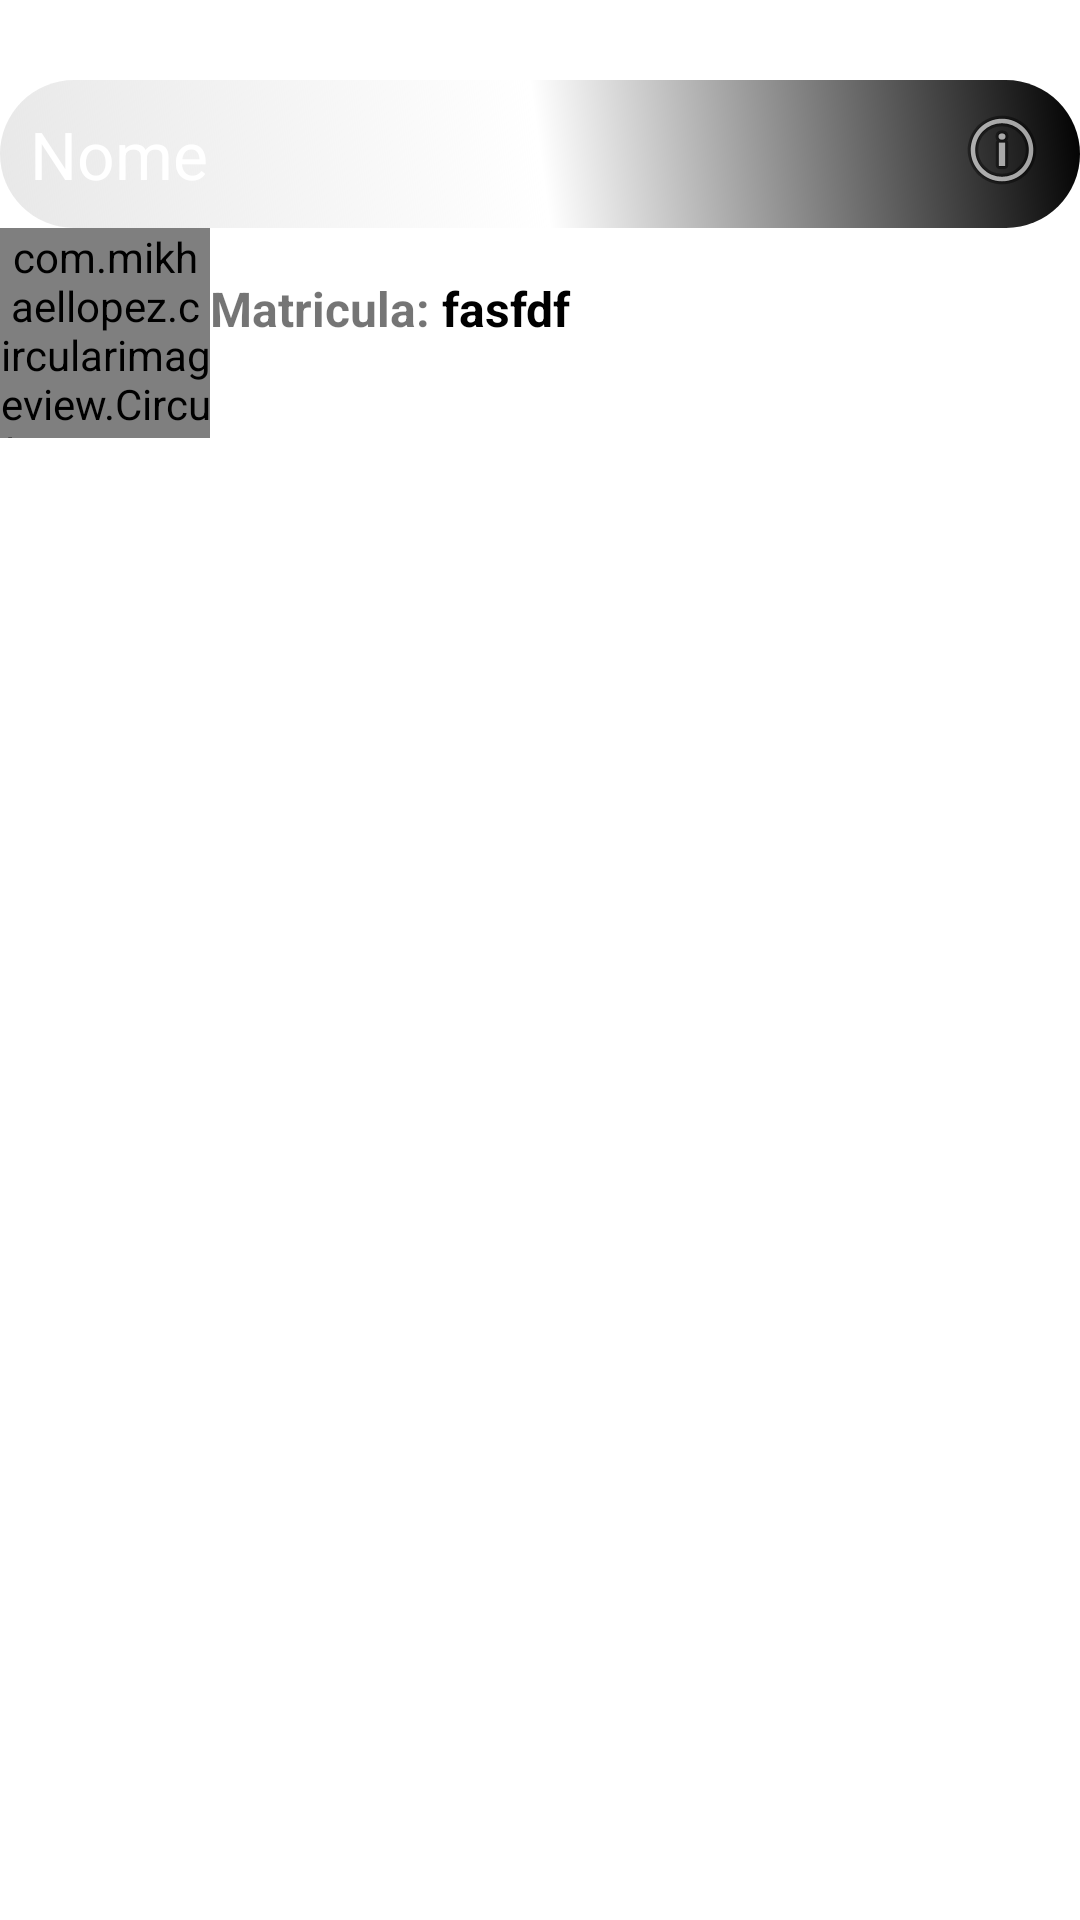

Where icons sit on this 1080px×1920px app screen, as bbox=(x1, y1, x2, y2):
info details: bbox=(924, 80, 1080, 228)
